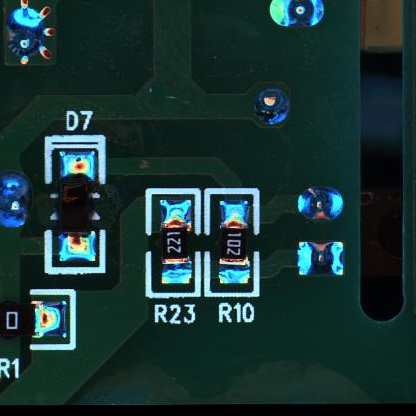spot: (1, 1, 56, 66), (295, 186, 346, 224), (293, 240, 346, 276), (1, 171, 31, 229), (269, 1, 326, 29), (253, 86, 291, 128)
